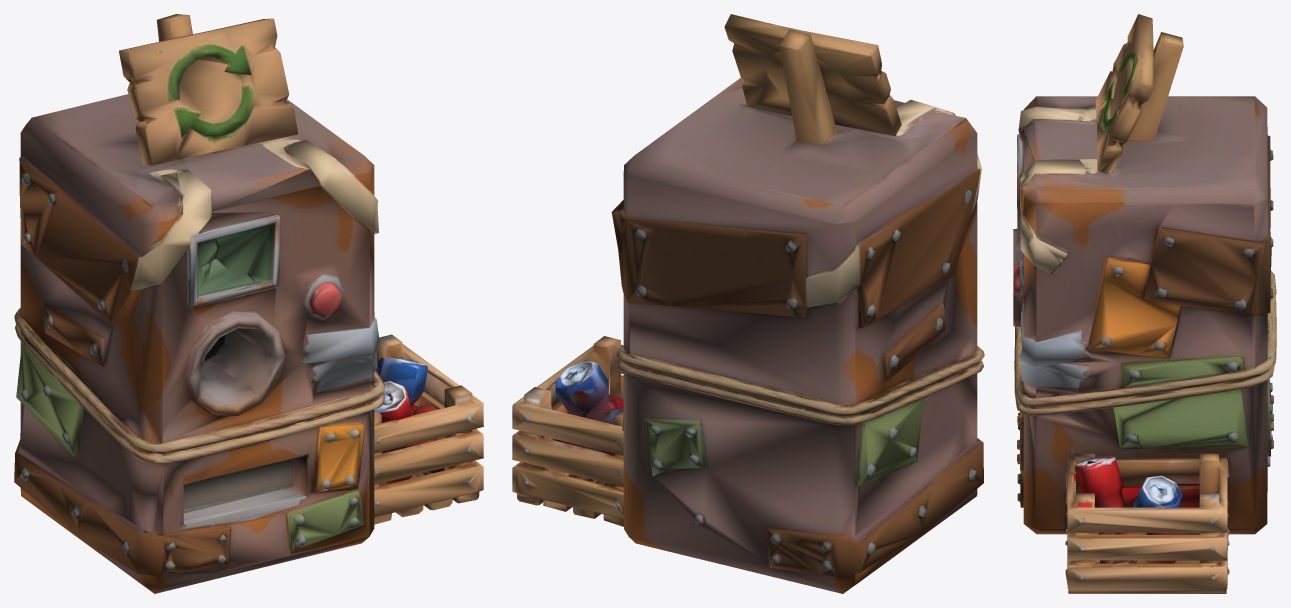
File: recycle-1.glb
The picture shows the model from 3 angles, left to right: view 1: azimuth 30°, elevation 25°; view 2: azimuth 150°, elevation 25°; view 3: azimuth 270°, elevation 25°; orthographic projection. The views are drawn at different scales.
Visible parts, largest first — view 1: node_0; view 2: node_0; view 3: node_0.
Part boxes in pixels (bbox=[...]): node_0: bbox=[14, 14, 483, 593]; node_0: bbox=[512, 14, 984, 593]; node_0: bbox=[1013, 14, 1276, 593].
Size of the model in its own units: 0.7186 by 0.9316 by 0.4931.
1 material, 1 textured.
